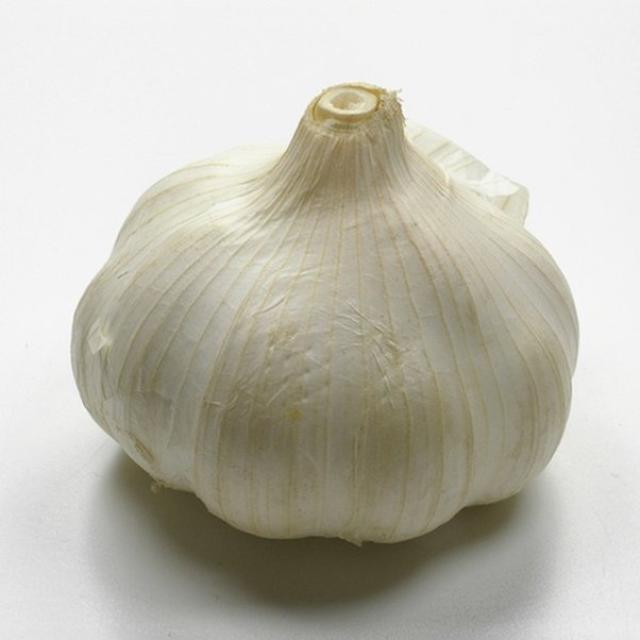garlic: (62, 108, 585, 553)
